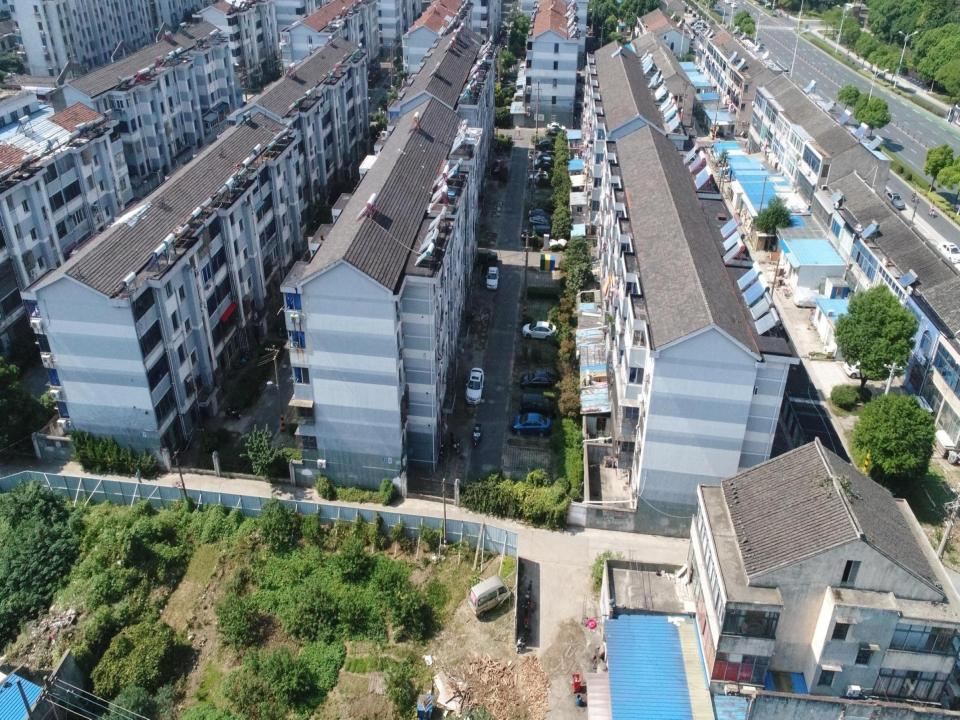car: (511, 413, 552, 438), (520, 392, 556, 417), (519, 370, 561, 391), (792, 287, 830, 309), (842, 357, 880, 379), (464, 366, 484, 405), (522, 321, 556, 342), (938, 240, 960, 264), (523, 225, 552, 241), (883, 190, 905, 210), (485, 266, 499, 290), (528, 208, 551, 222), (529, 214, 551, 227), (530, 170, 551, 183), (532, 152, 549, 168), (539, 156, 558, 169), (546, 121, 566, 132), (491, 158, 503, 176), (546, 128, 567, 138), (538, 139, 553, 148), (730, 1, 738, 8), (576, 71, 581, 81), (576, 85, 581, 95)
van: (468, 577, 510, 620)
